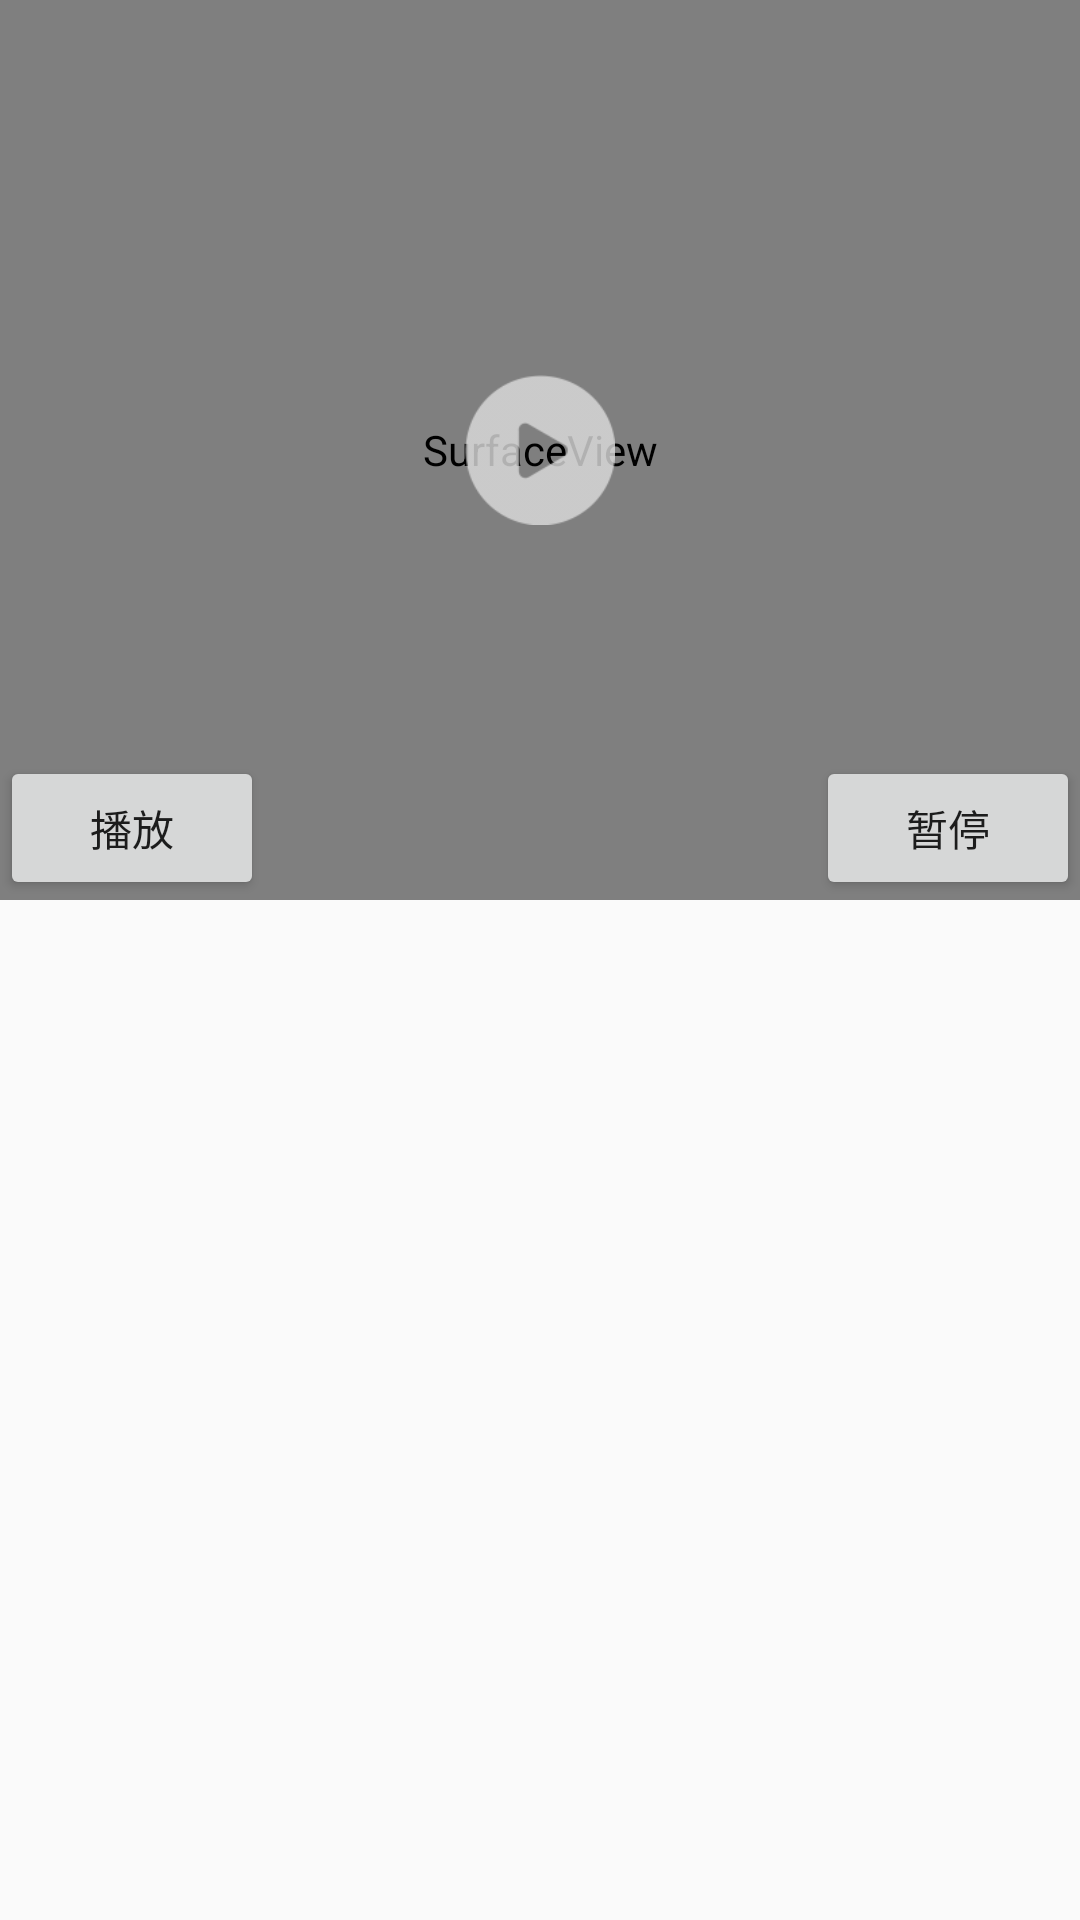

Icon click points for this 1080*1920 phone screenshot, format [x,y]:
bofang: [540,450]
